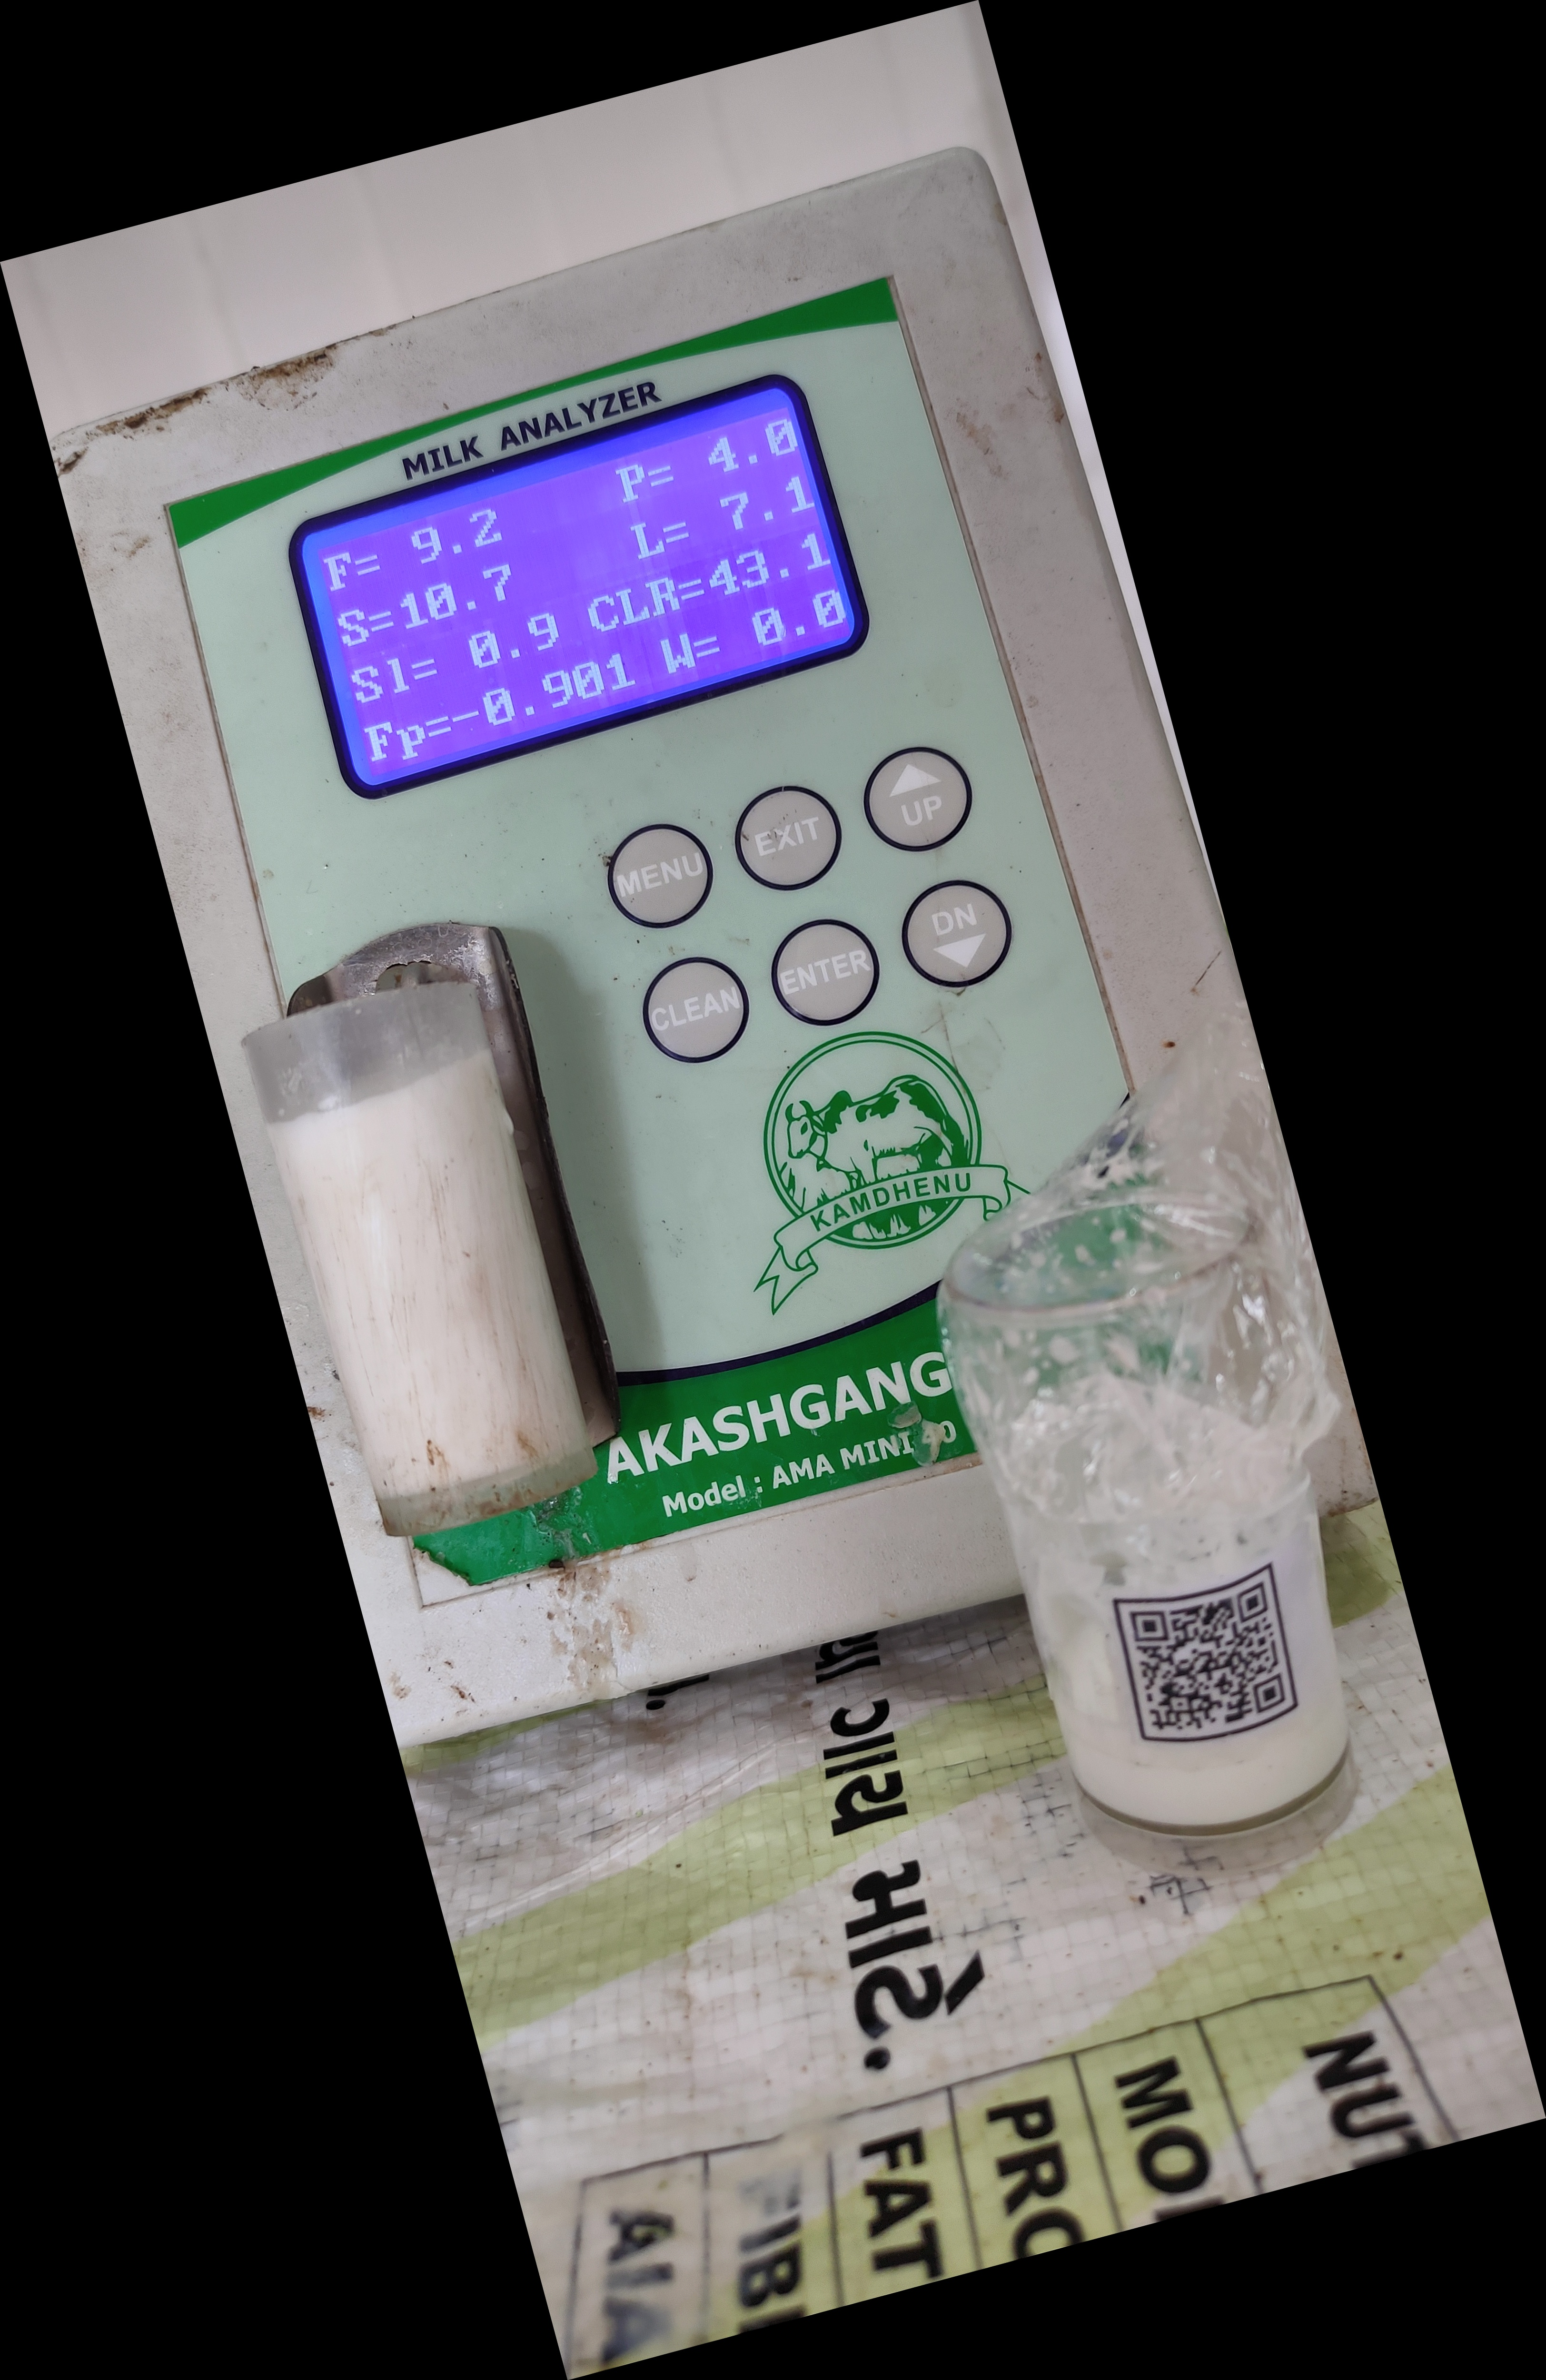lcd: (276, 373, 888, 805)
qr: (1114, 1559, 1305, 1747)
